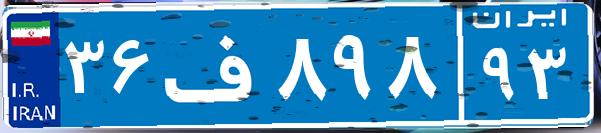3: (57, 26, 110, 107), (525, 38, 570, 115)
6: (110, 28, 158, 105)
8: (385, 28, 445, 110), (273, 28, 330, 110)
9: (330, 28, 385, 110), (475, 38, 525, 113)
ف: (158, 15, 273, 115)
